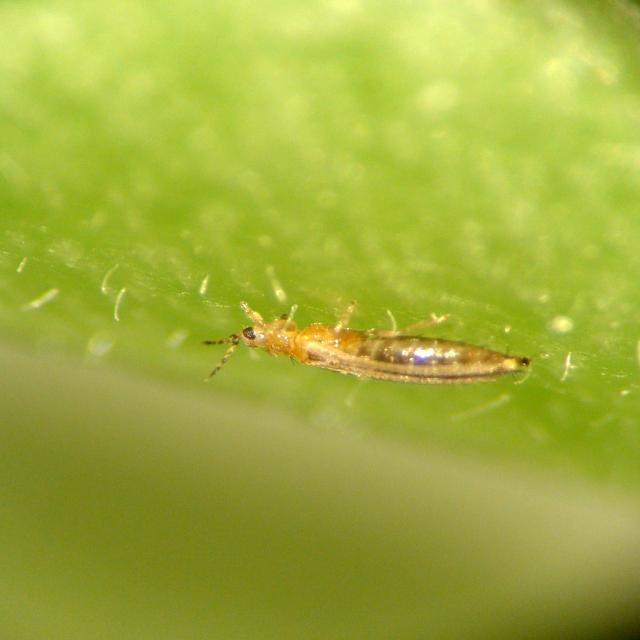thrip: (192, 298, 544, 401)
